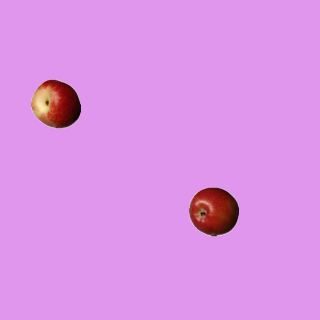Apple Braeburn: (188, 186, 238, 236)
Nectarine: (30, 78, 80, 128)
